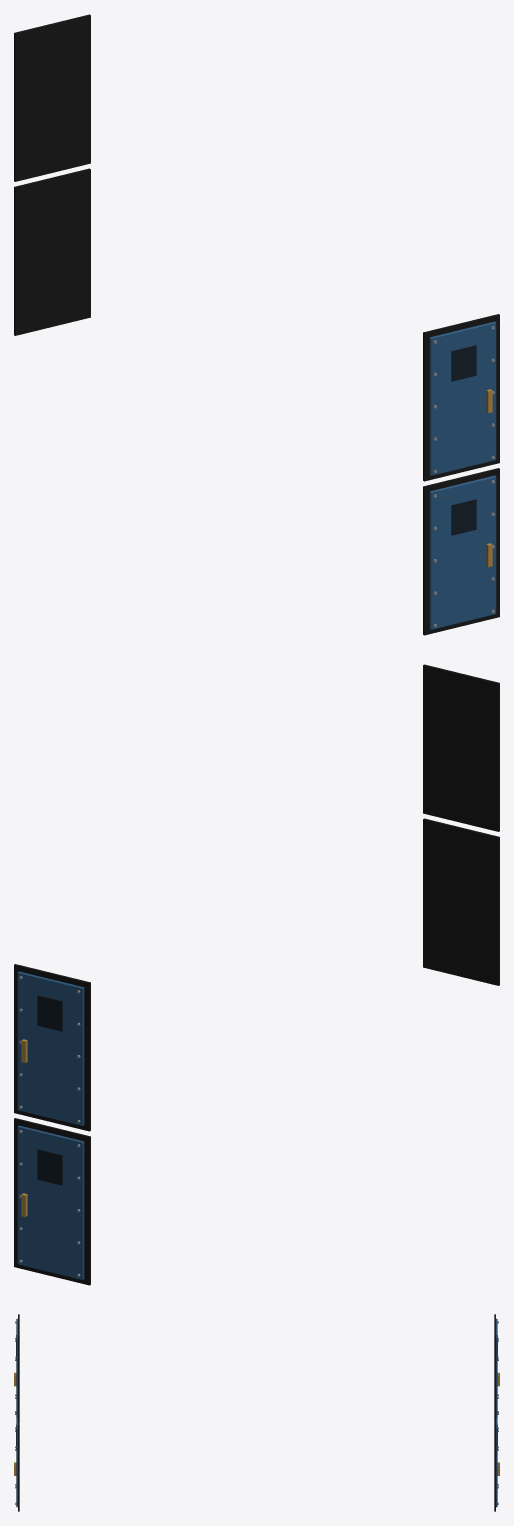
File: pax100_seal.obj
3 views of the same model, one above another, from view 1: azimuth 30°, elevation 25°; view 2: azimuth 150°, elevation 25°; view 3: azimuth 270°, elevation 25° (orthographic). The views are drawn at different scales.
Visible parts, largest first — view 1: pax100_seal; view 2: pax100_seal; view 3: pax100_seal.
Part boxes in pixels (box(x1,y1,x2,y2)): pax100_seal: box(14, 14, 499, 635); pax100_seal: box(14, 664, 499, 1285); pax100_seal: box(14, 1314, 499, 1511).
Size of the model in its own units: 1.1 by 4.2 by 10.52.
